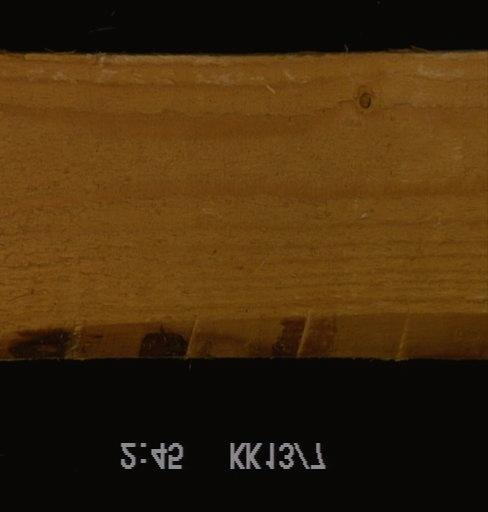dry_knot: (354, 91, 373, 112)
wave: (0, 311, 487, 358)
